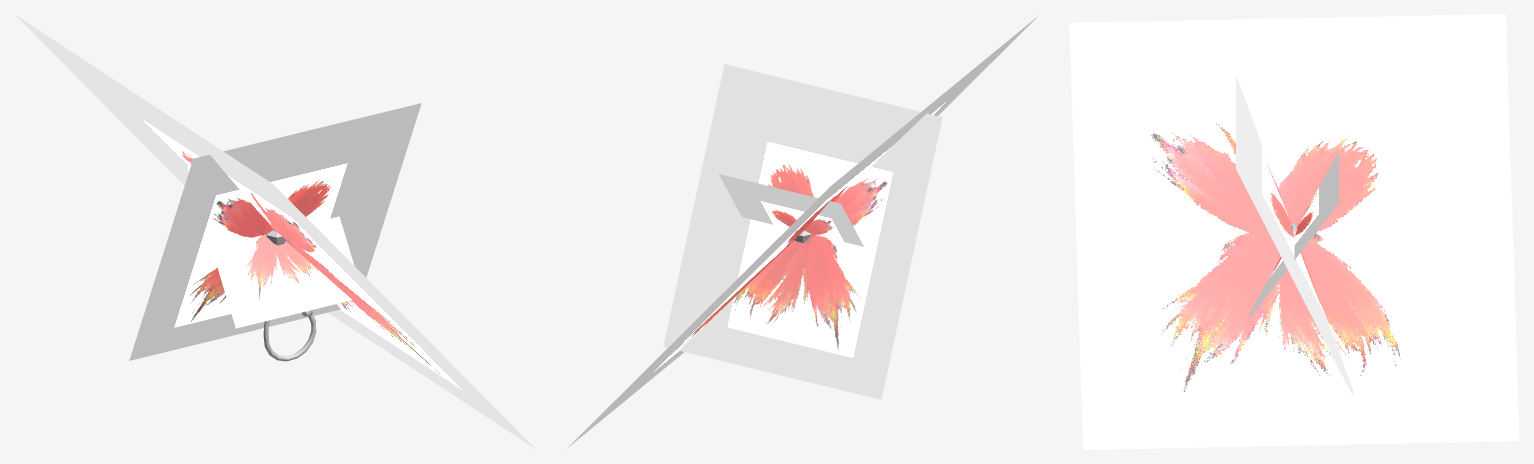
The model's file is Fish hook.FBX.
3 renders of one model, left to right at view 1: azimuth 30°, elevation 25°; view 2: azimuth 150°, elevation 25°; view 3: azimuth 270°, elevation 25°, orthographic. The views are drawn at different scales.
Visible parts, largest first — view 1: Plane001, Plane003, Plane002, Cylinder001; view 2: Plane001, Plane003, Plane002; view 3: Plane003, Plane001, Plane002.
Part boxes in pixels (bbox=[...]): Plane001: bbox=[129, 103, 421, 360]; Plane003: bbox=[15, 15, 535, 448]; Plane002: bbox=[187, 165, 354, 328]; Cylinder001: bbox=[263, 229, 316, 361]; Plane001: bbox=[663, 64, 942, 399]; Plane003: bbox=[567, 15, 1038, 448]; Plane002: bbox=[719, 174, 863, 246]; Plane003: bbox=[1069, 14, 1519, 449]; Plane001: bbox=[1236, 75, 1352, 395]; Plane002: bbox=[1250, 151, 1338, 317].
Bounding box in the file's own units: 13.19 × 14.61 × 19.43.
